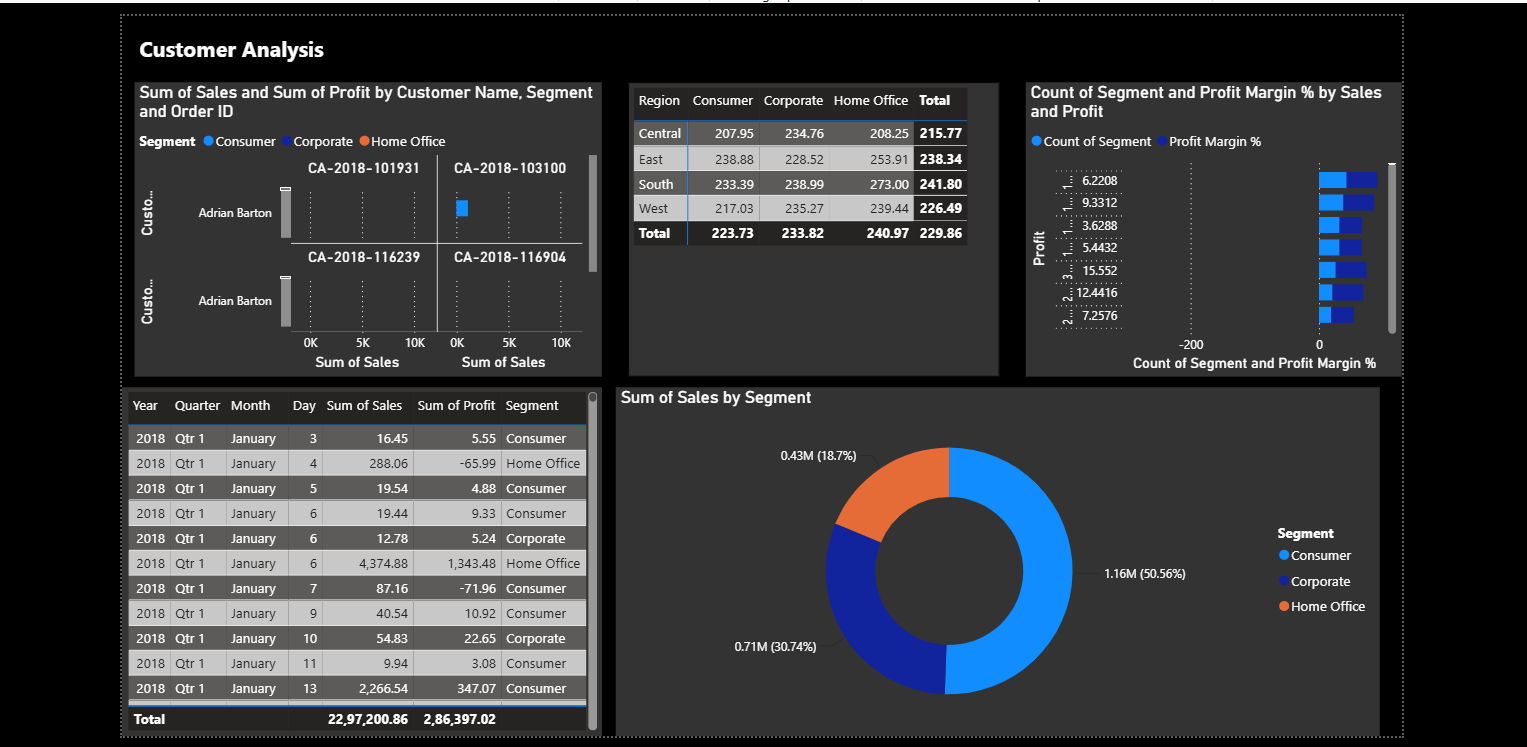

Layout of this report page (visuals, bound fields, positions):
{"tool":"powerbi","page":{"name":"Page 4","canvas":[1280,720],"ordinal":3},"visuals":[{"type":"barChart","fields":{"Y":["Sum(E-Commerce.Sales)"],"Category":["E-Commerce.Customer Name"],"Series":["E-Commerce.Segment"],"Rows":["E-Commerce.Order ID"]},"box":[12.9,65.7,467.1,294.3],"z":0},{"type":"donutChart","fields":{"Category":["E-Commerce.Segment"],"Y":["Sum(E-Commerce.Sales)"]},"box":[494.3,371.4,764.3,348.6],"z":1000},{"type":"barChart","fields":{"Y":["CountNonNull(E-Commerce.Segment)","measure_.Profit Margin %"],"Category":["E-Commerce.Sales","E-Commerce.Profit"]},"box":[904.3,65.7,375.7,294.3],"z":2000},{"type":"pivotTable","fields":{"Rows":["E-Commerce.Region"],"Columns":["E-Commerce.Segment"],"Values":["Avg(E-Commerce.Sales)"]},"box":[505.7,65.7,371.4,294.3],"z":3000},{"type":"tableEx","fields":{"Values":["E-Commerce.Order Date.Variation.Date Hierarchy.Year","E-Commerce.Order Date.Variation.Date Hierarchy.Quarter","E-Commerce.Order Date.Variation.Date Hierarchy.Month","E-Commerce.Order Date.Variation.Date Hierarchy.Day","Sum(E-Commerce.Sales)","Sum(E-Commerce.Profit)","E-Commerce.Segment"]},"box":[0,371.4,480,348.6],"z":4000},{"type":"textbox","box":[12.9,12.9,300,40],"z":5000}]}

Visuals, with their boxes on the page's 1280x720 design canvas (x1, y1, x2, y2). These are canvas units, not pixel positions in the 1527x747 screenshot, which may show the page scaled, cropped or inside an application window:
barChart - Sum(E-Commerce.Sales) x E-Commerce.Customer Name: (13,66,480,360)
donutChart - E-Commerce.Segment x Sum(E-Commerce.Sales): (494,371,1259,720)
barChart - CountNonNull(E-Commerce.Segment) x measure_.Profit Margin %: (904,66,1280,360)
pivotTable - E-Commerce.Region x E-Commerce.Segment: (506,66,877,360)
tableEx - E-Commerce.Order Date.Variation.Date Hierarchy.Year x E-Commerce.Order Date.Variation.Date Hierarchy.Quarter: (0,371,480,720)
textbox: (13,13,313,53)
